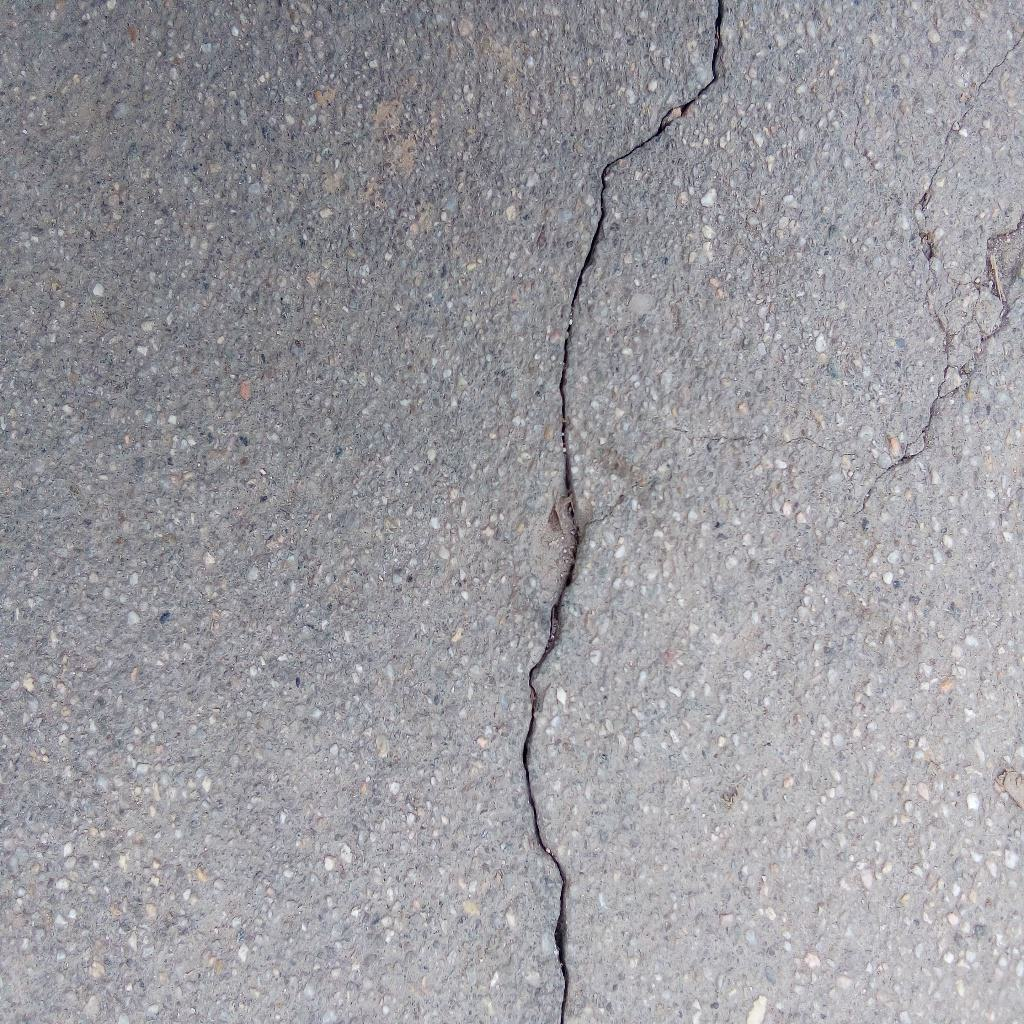Crack: (521, 1, 725, 1024)
